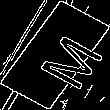M_NW: (16, 22, 94, 88)
